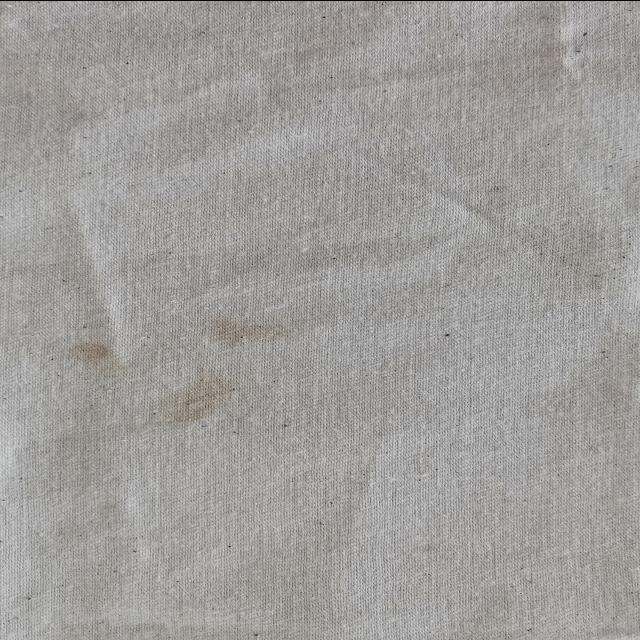taaaches: (158, 302, 310, 354), (136, 371, 252, 429), (45, 336, 126, 368)
